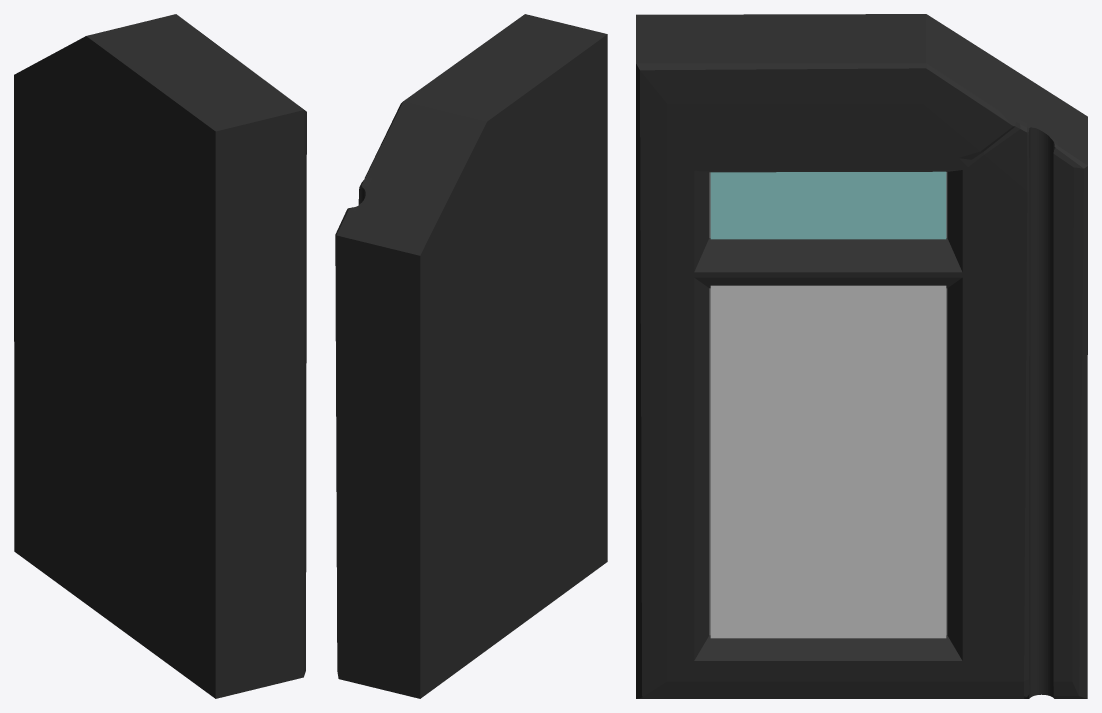
Rendered from Keypad2.fbx.
3 renders of one model, left to right at view 1: azimuth 30°, elevation 25°; view 2: azimuth 150°, elevation 25°; view 3: azimuth 270°, elevation 25°, orthographic. The views are drawn at different scales.
Parts seen in each view (by area): view 1: keypad; view 2: keypad; view 3: keypad, keyholes.001.
Boxes of the visible parts, box(x1,y1,x2,y2) form: keypad: box(14, 14, 306, 698); keypad: box(335, 14, 607, 698); keypad: box(636, 14, 1087, 698); keyholes.001: box(710, 171, 946, 638).
Bounding box in the file's own units: 17.64 × 4.76 × 27.43.
